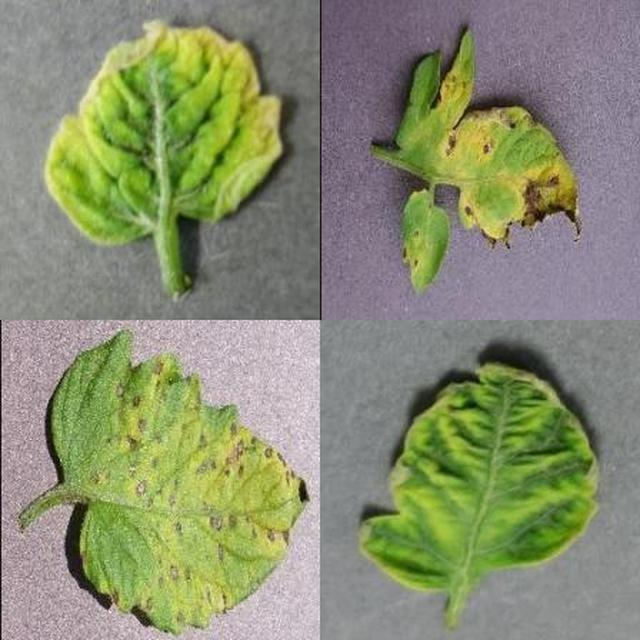Yellow Leaf Curl Virus: (67, 157, 640, 640)
